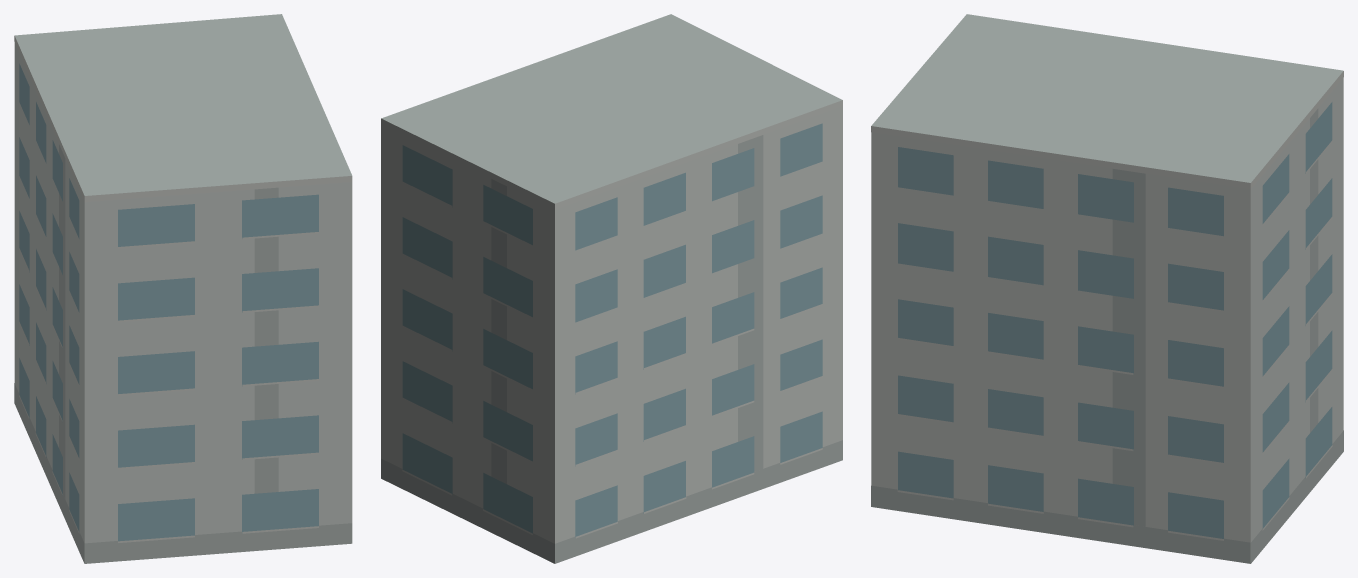
Rendered from survey-upis-32945478.glb.
3 renders of one model, left to right at view 1: azimuth 30°, elevation 25°; view 2: azimuth 150°, elevation 25°; view 3: azimuth 270°, elevation 25°, orthographic. The views are drawn at different scales.
Parts seen in each view (by area): view 1: survey-upis-32945478.tmp; view 2: survey-upis-32945478.tmp; view 3: survey-upis-32945478.tmp.
Boxes of the visible parts, x1,y1,x2,y2 form: survey-upis-32945478.tmp: (14,14,352,563); survey-upis-32945478.tmp: (381,14,842,563); survey-upis-32945478.tmp: (871,14,1343,563).
Bounding box in the file's own units: 13.67 × 14.35 × 16.15.
